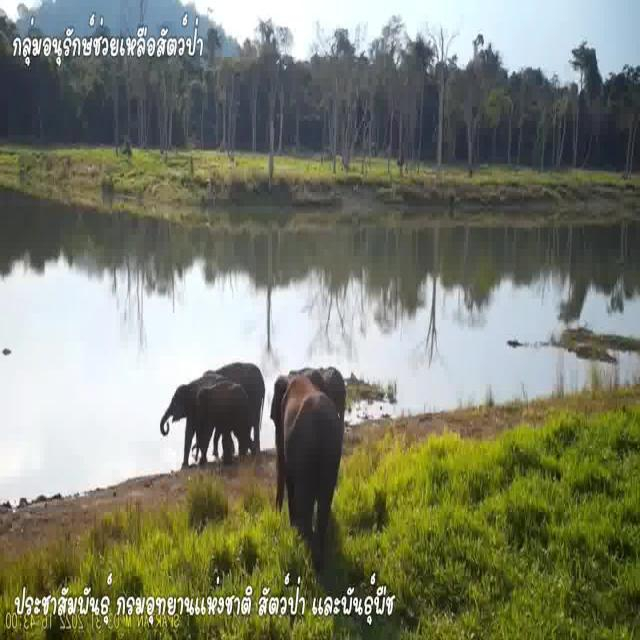Elephant: (272, 380, 344, 514), (210, 360, 267, 444), (156, 376, 200, 456)
